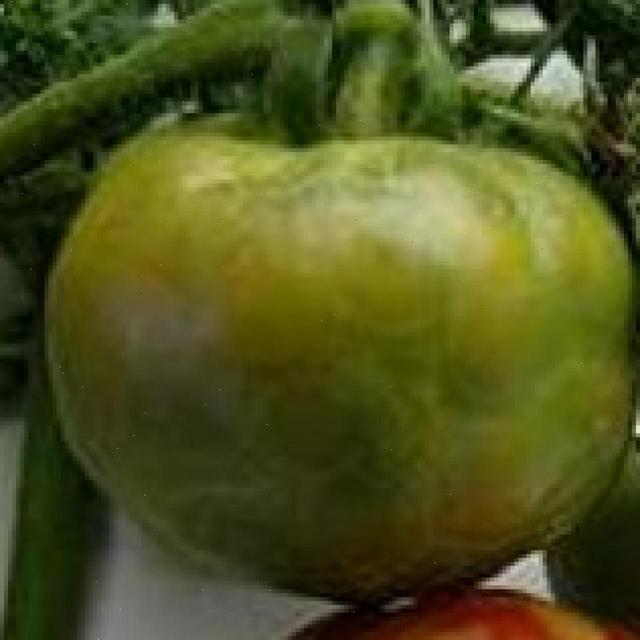Spotted wilt Virus Fruit: (215, 176, 639, 345)
